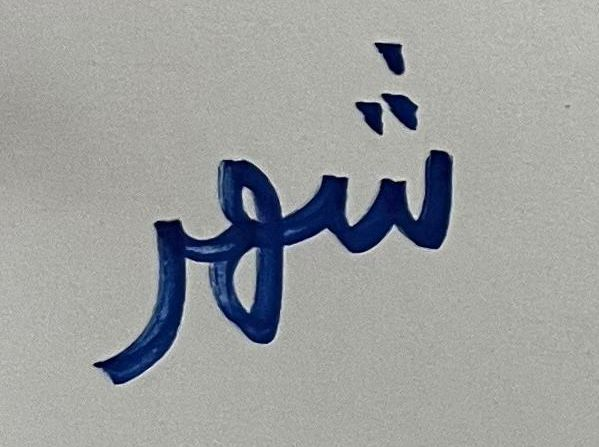heh: (198, 105, 307, 366)
reh: (65, 169, 193, 417)
sheen: (311, 19, 495, 302)
